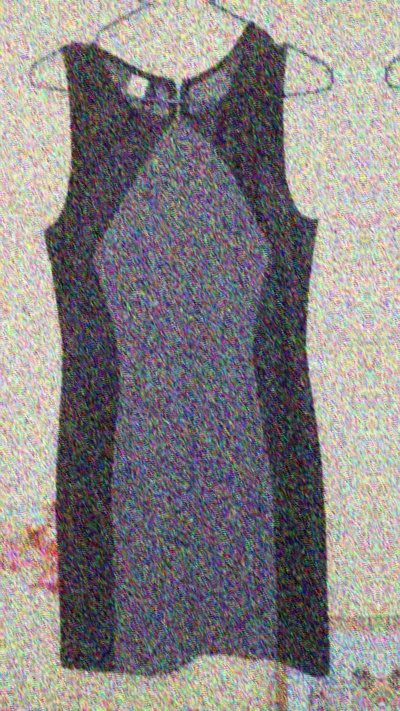Dress: (10, 3, 367, 693), (372, 0, 400, 680), (0, 0, 342, 3)
